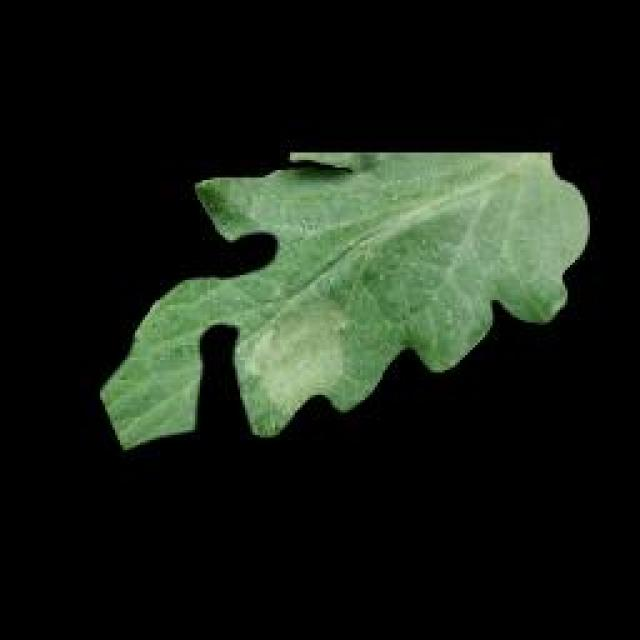Tomato___Late_blight: (100, 152, 590, 452)
